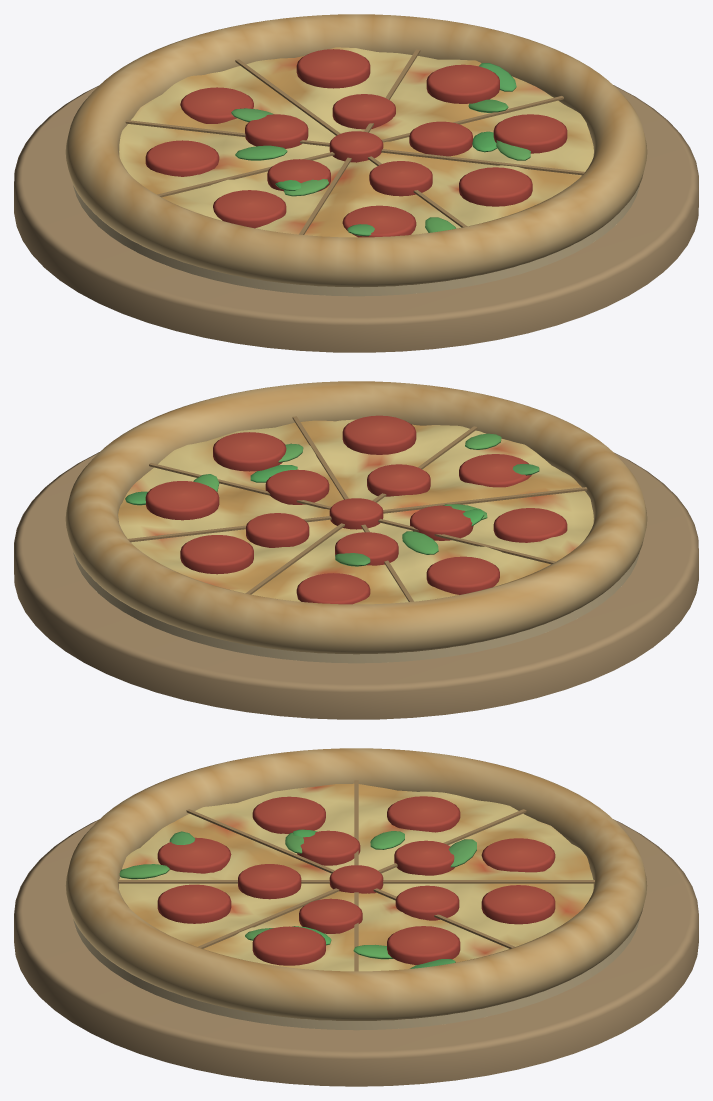
Rendered from pizza_cela.glb.
3 views of the same model, one above another, from view 1: azimuth 30°, elevation 25°; view 2: azimuth 150°, elevation 25°; view 3: azimuth 270°, elevation 25° (orthographic).
Visible parts, largest first — view 1: pizza_full; view 2: pizza_full; view 3: pizza_full.
Boxes of the visible parts, left/top/right/bottom form: pizza_full: left=14, top=14, right=698, bottom=352; pizza_full: left=14, top=381, right=698, bottom=719; pizza_full: left=14, top=748, right=698, bottom=1086.
Bounding box in the file's own units: 0.41 × 0.0526 × 0.41.
